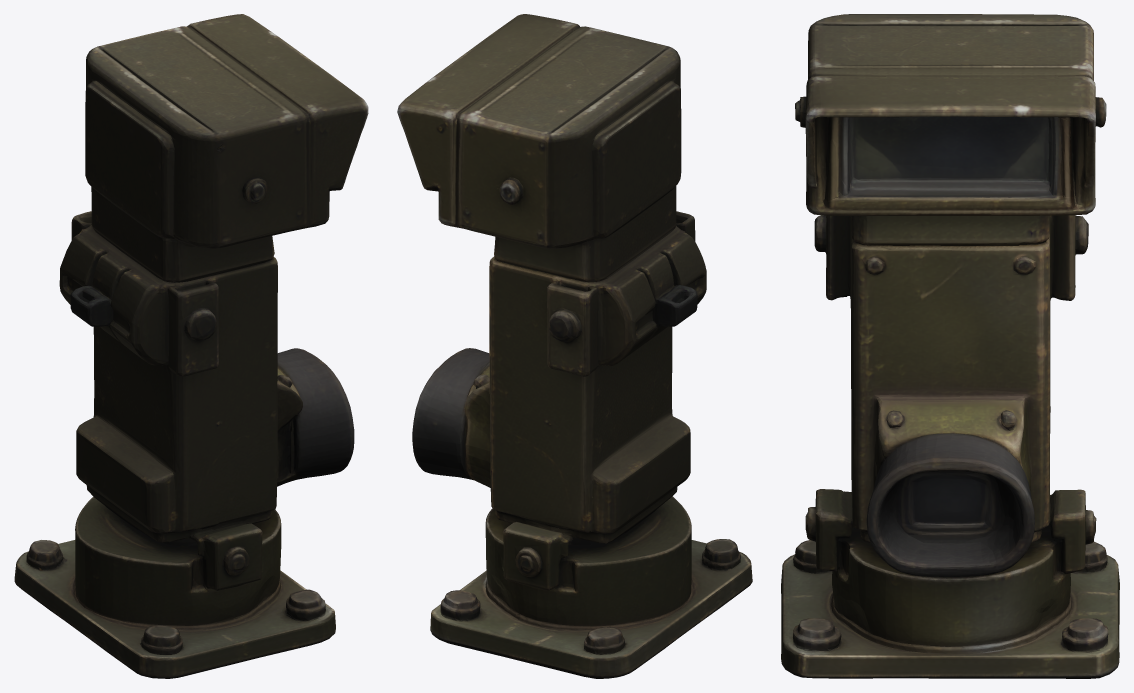
Rendered from (잠만경)c7cb499c-3e17-4cf5-beb0-27f901054029.glb.
3 views of the same model, side by side, from view 1: azimuth 30°, elevation 25°; view 2: azimuth 150°, elevation 25°; view 3: azimuth 270°, elevation 25° (orthographic). The views are drawn at different scales.
Parts seen in each view (by area): view 1: world; view 2: world; view 3: world.
Part boxes in pixels (bbox=[...]): world: bbox=[14, 14, 368, 678]; world: bbox=[397, 14, 752, 678]; world: bbox=[781, 14, 1119, 678].
Bounding box in the file's own units: 0.3387 × 0.6961 × 0.3601.
Materials: 1 (1 with a texture image).
